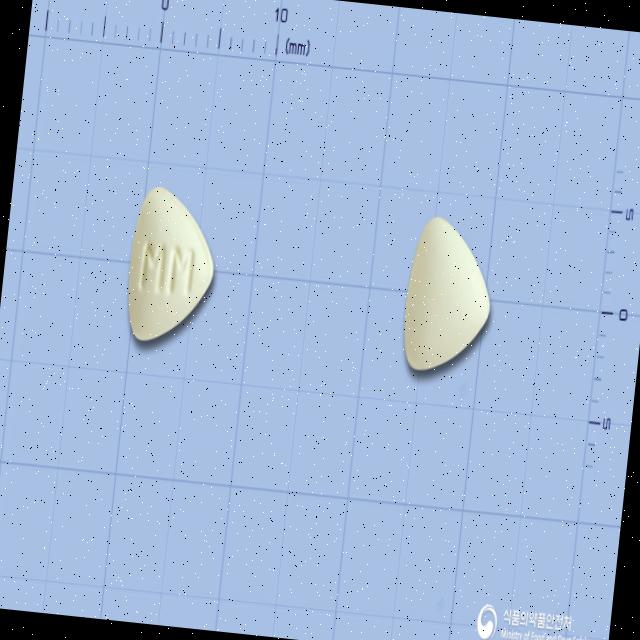Leflunomide: (121, 182, 222, 350), (397, 213, 499, 377)
